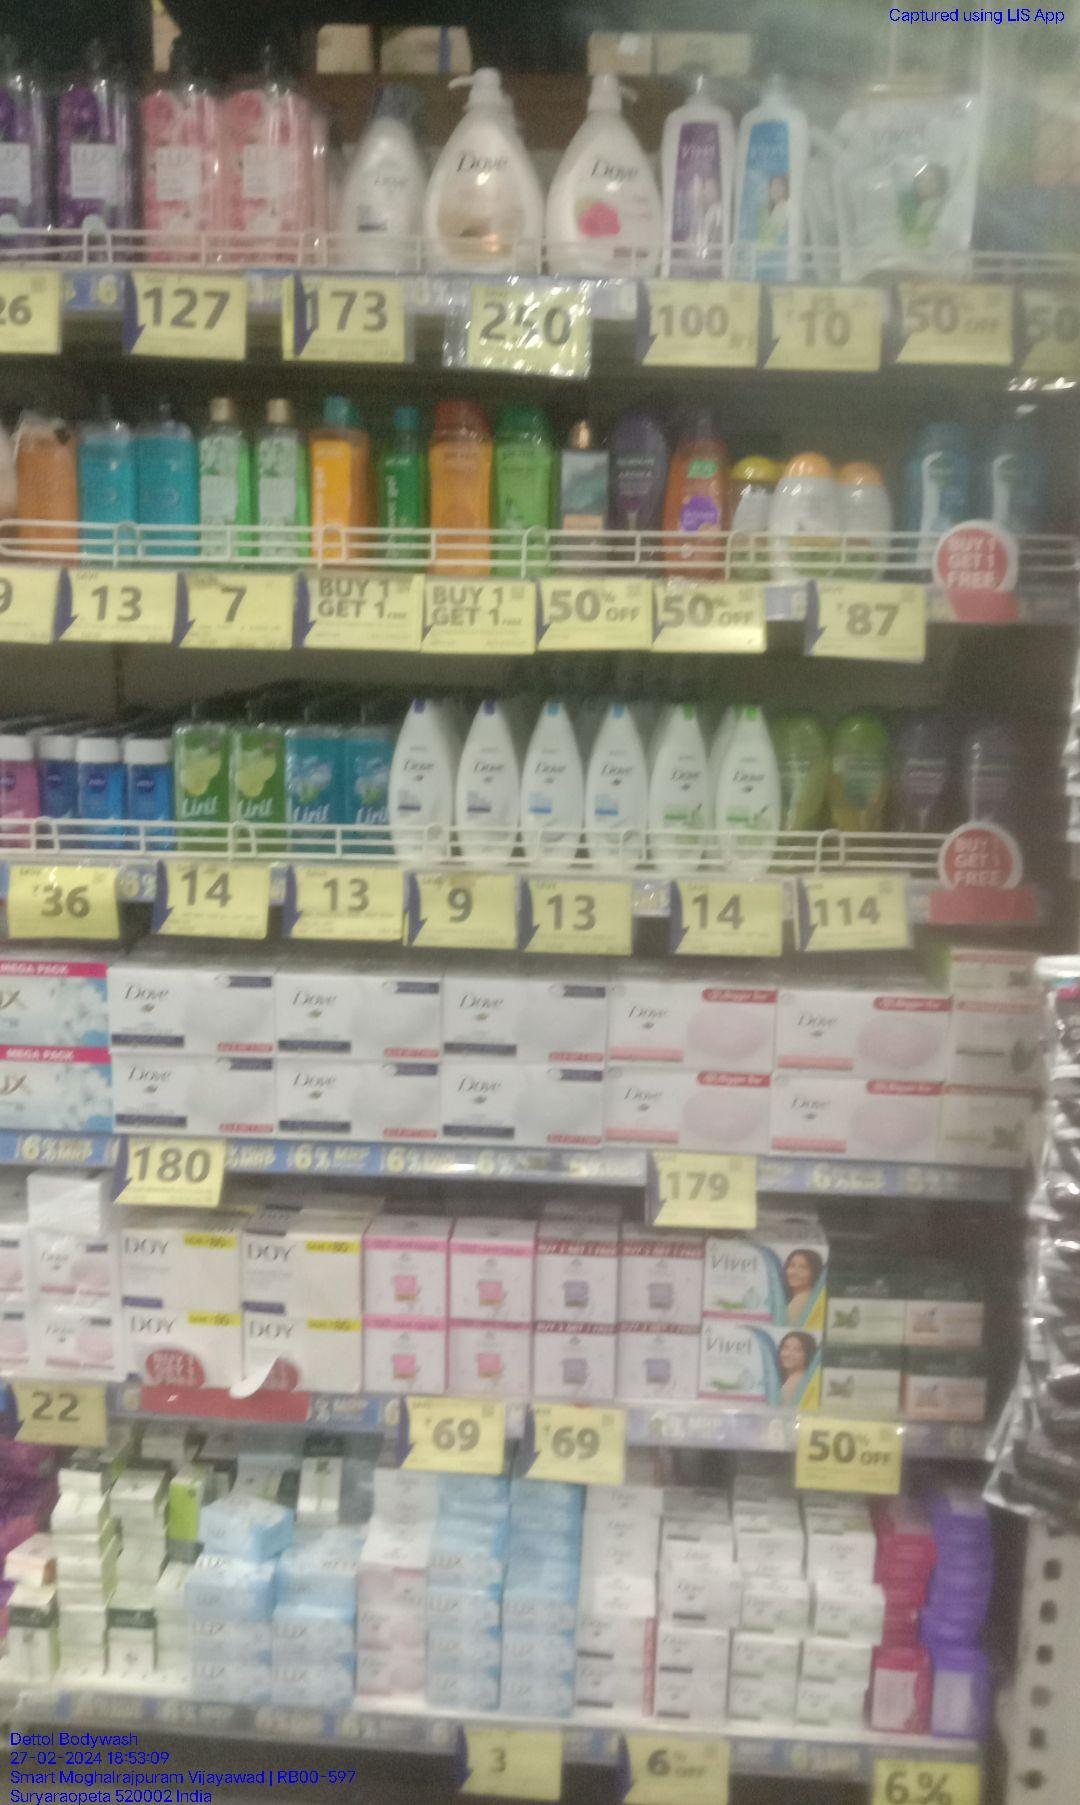Dettol_Bodywash_Cool: (909, 426, 971, 584), (987, 423, 1039, 553)
Dove_Deep_Moisture_Body_Wash_250ML: (459, 694, 516, 873), (392, 699, 450, 867)
Dove_Gentle_Exfoliating_Body_Wash_250ML: (590, 701, 648, 878), (526, 694, 582, 870)
Dove_Refreshing_Body_Wash_250ML: (717, 702, 782, 881), (656, 707, 712, 872)
Get_Real_Shower_Gel_Moisturising_Glycerin_300ML: (431, 400, 496, 580)
Joy_Shower_Gel_Mandarin_and_Lemongrass_250ML: (667, 399, 738, 576)
Liril_Cooling_Mint_Body_Wash_250ML: (285, 699, 342, 859), (345, 697, 387, 867)
Liril_Lime_and_Tea_Tree_Oil_Body_Wash_250ML: (174, 701, 230, 858), (231, 697, 282, 856)
Lux_Body_Wash_Skin_Detox_Freesia_Scent_and_Alove_Vera_245ML: (256, 393, 309, 571), (201, 396, 249, 579)
Palmolive_Aroma_Morning_Tonic_Shower_Gel_250ML: (832, 710, 887, 868), (780, 710, 825, 876)
Palmolive_Aroma_Relax_250ML: (895, 703, 954, 876), (960, 716, 1026, 838)
Pears_Pure_Glycerin_and_Mint_Extracts_Body_Wash_250ML: (78, 392, 136, 561), (139, 395, 195, 564)
